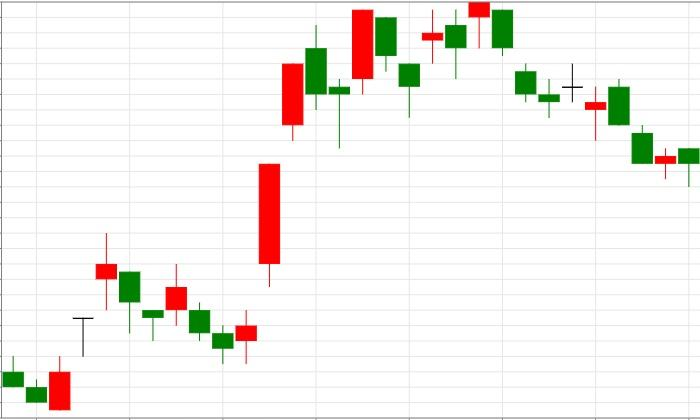three_white_soldiers_rise: (119, 64, 303, 364)
